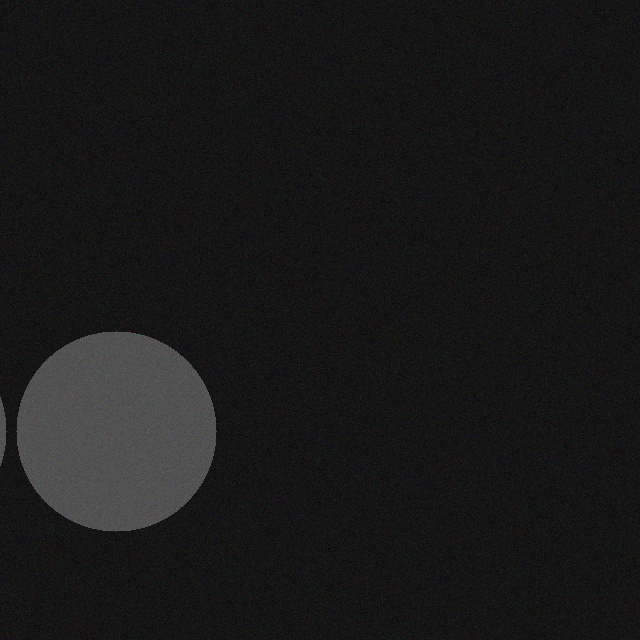circle: (5, 344, 205, 544)
